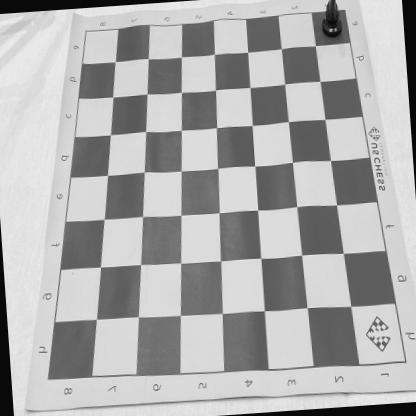black-knight: (320, 0, 344, 39)
